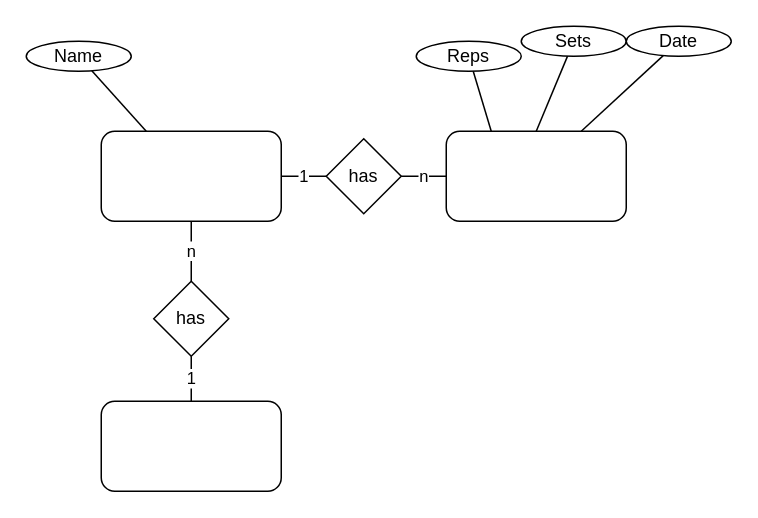
This 758x518 diagram has some shape labels left out. The box of each missing label's shape, as (x1, y1, x2, y2) in pixels:
Execution: (445, 130, 626, 221)
Exercise: (100, 130, 281, 221)
Training: (100, 400, 281, 491)
